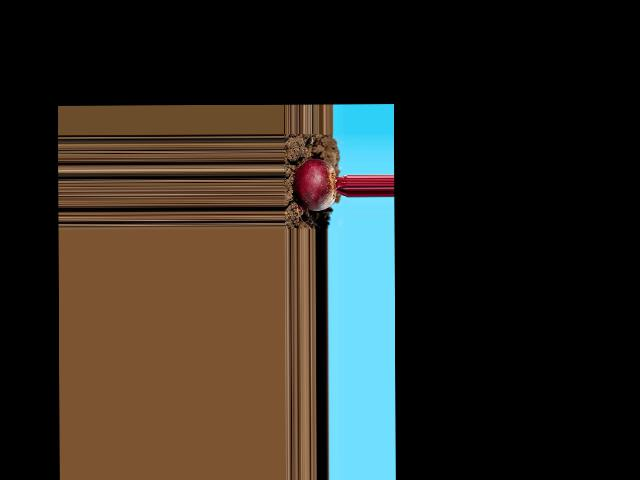beet: (293, 159, 347, 211)
